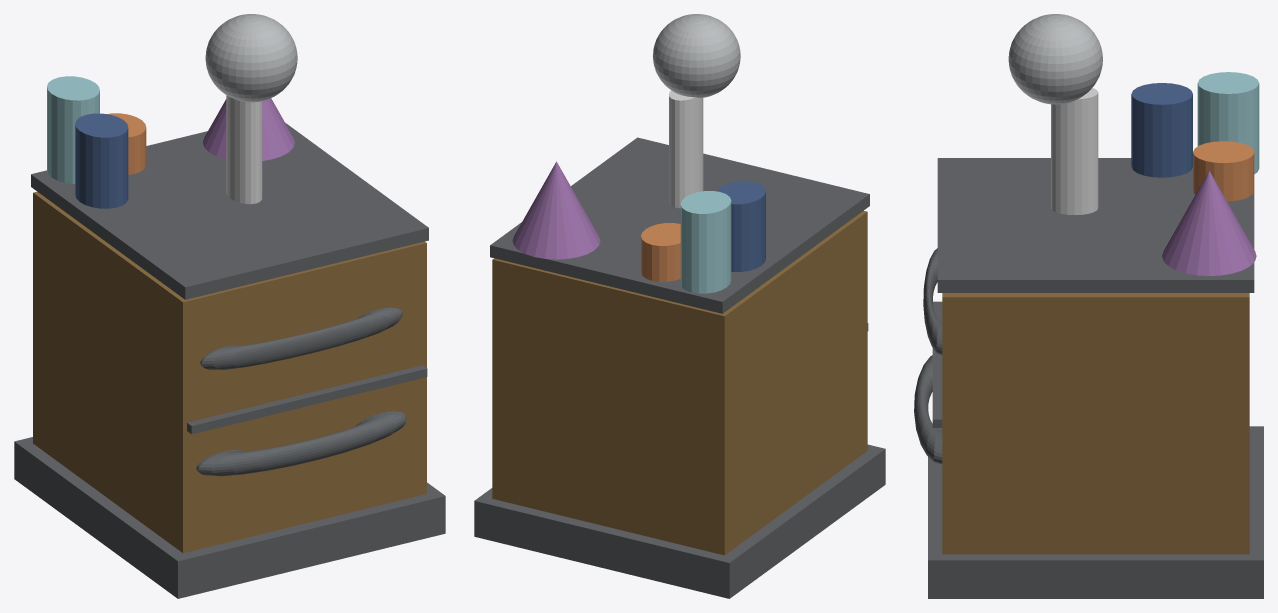
Rendered from Project 149.glb.
3 renders of one model, left to right at view 1: azimuth 30°, elevation 25°; view 2: azimuth 150°, elevation 25°; view 3: azimuth 270°, elevation 25°, orthographic. The views are drawn at different scales.
Parts seen in each view (by area): view 1: Mesh_Mesh_head_geo.001_lambert2SG.001; view 2: Mesh_Mesh_head_geo.001_lambert2SG.001; view 3: Mesh_Mesh_head_geo.001_lambert2SG.001.
Boxes of the visible parts, x1,y1,x2,y2 form: Mesh_Mesh_head_geo.001_lambert2SG.001: (14,14,445,598); Mesh_Mesh_head_geo.001_lambert2SG.001: (474,14,885,598); Mesh_Mesh_head_geo.001_lambert2SG.001: (914,14,1263,598).
Bounding box in the file's own units: 67 × 120 × 73.97.
